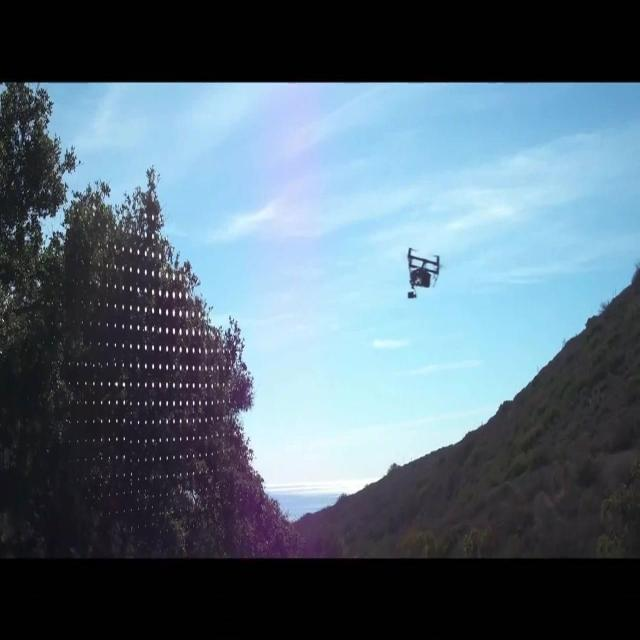drone: (404, 244, 443, 299)
